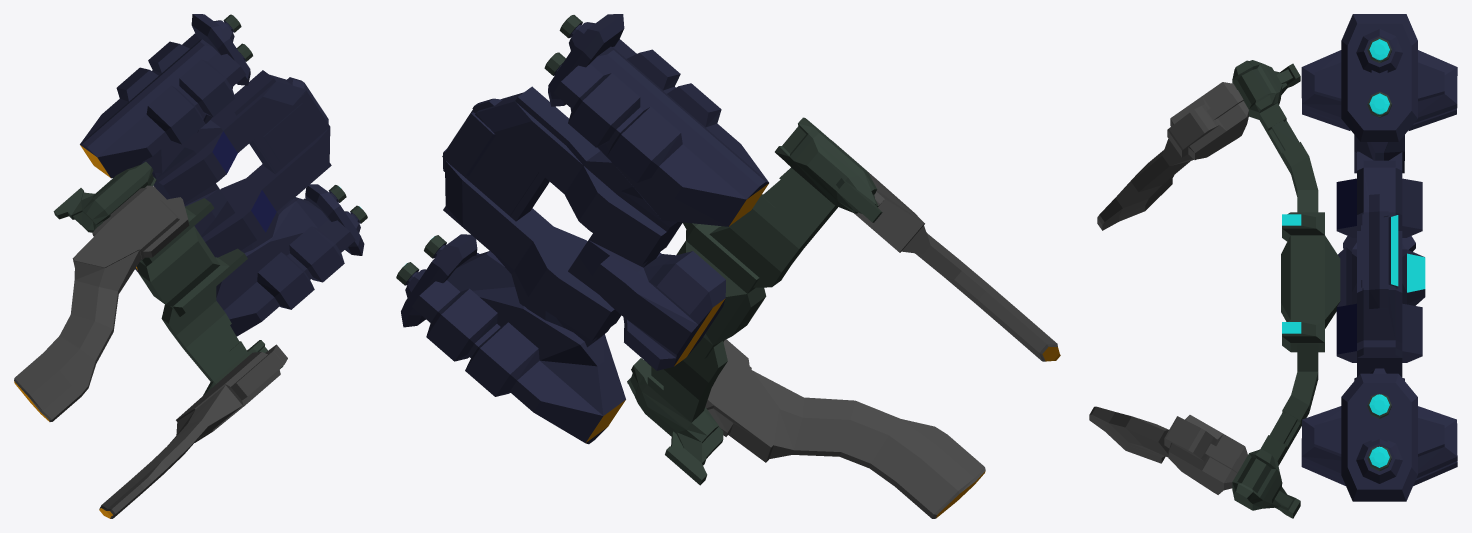
File: starship.glb
The picture shows the model from 3 angles, left to right: view 1: azimuth 30°, elevation 25°; view 2: azimuth 150°, elevation 25°; view 3: azimuth 270°, elevation 25°; orthographic projection. The views are drawn at different scales.
Parts seen in each view (by area): view 1: ME_ship_IndexedFaceSet; view 2: ME_ship_IndexedFaceSet; view 3: ME_ship_IndexedFaceSet.
Part boxes in pixels (x1,y1,x2,y2): ME_ship_IndexedFaceSet: [14, 14, 367, 518]; ME_ship_IndexedFaceSet: [396, 14, 1060, 518]; ME_ship_IndexedFaceSet: [1089, 14, 1457, 518].
Bounding box in the file's own units: 0.0493 × 0.0437 × 0.0256.
